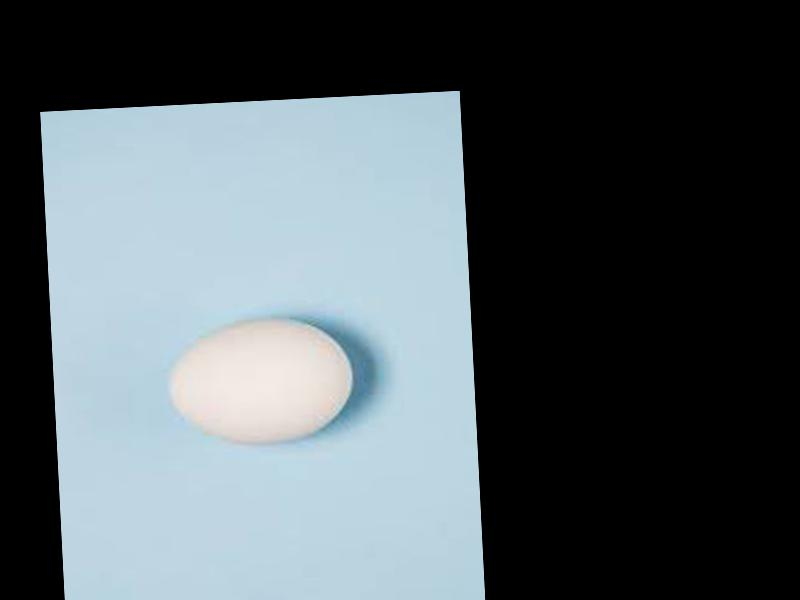Eggs: (163, 316, 355, 449)
